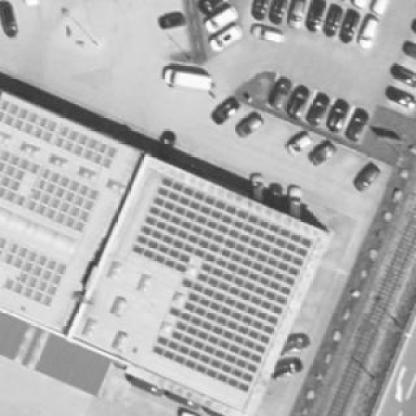solar-pv-panel: (132, 176, 312, 392), (25, 168, 100, 233), (3, 241, 68, 308), (54, 126, 118, 171), (0, 98, 58, 143), (0, 148, 40, 207), (0, 236, 10, 261)
